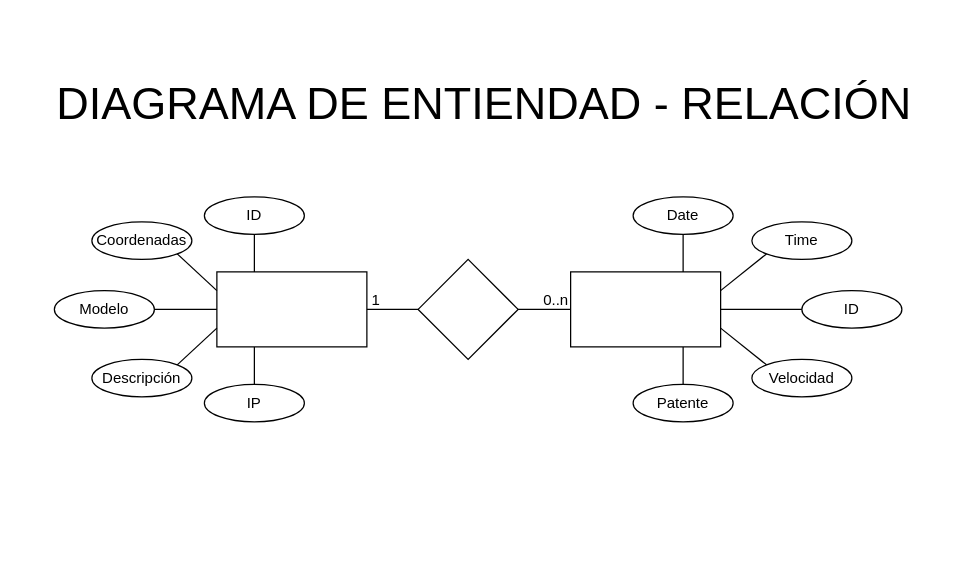
This 968x570 diagram has some shape labels left out. Here are the shapes that lost their labels. From the top down, the box of each, then its label:
(216, 271, 367, 347): Cámara
(417, 258, 518, 359): Registra
(569, 271, 721, 347): Detección
